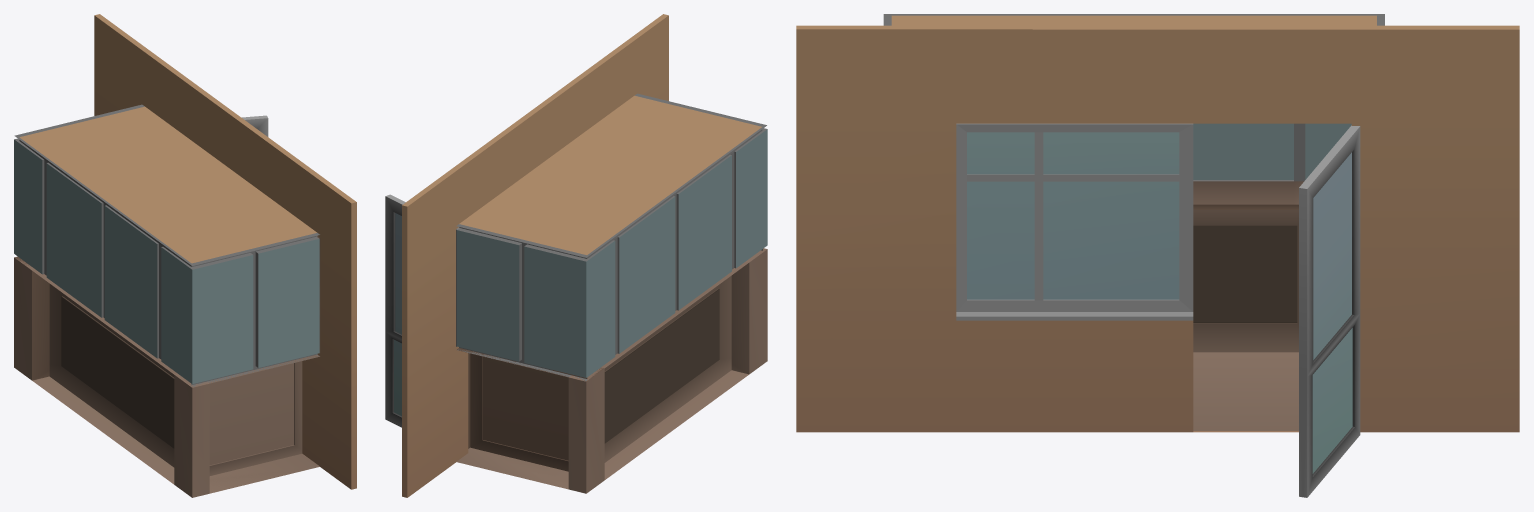
The model's file is Old balcon.fbx.
The picture shows the model from 3 angles, left to right: view 1: azimuth 30°, elevation 25°; view 2: azimuth 150°, elevation 25°; view 3: azimuth 270°, elevation 25°; orthographic projection. The views are drawn at different scales.
Parts seen in each view (by area): view 1: Old Balcony; view 2: Old Balcony; view 3: Old Balcony.
Part boxes in pixels (<box>): Old Balcony: <box>14,14,356,497</box>; Old Balcony: <box>385,14,767,497</box>; Old Balcony: <box>796,14,1519,497</box>.
Size of the model in its own units: 184 by 225 by 364.
